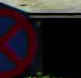No Stopping: (1, 2, 43, 76)
